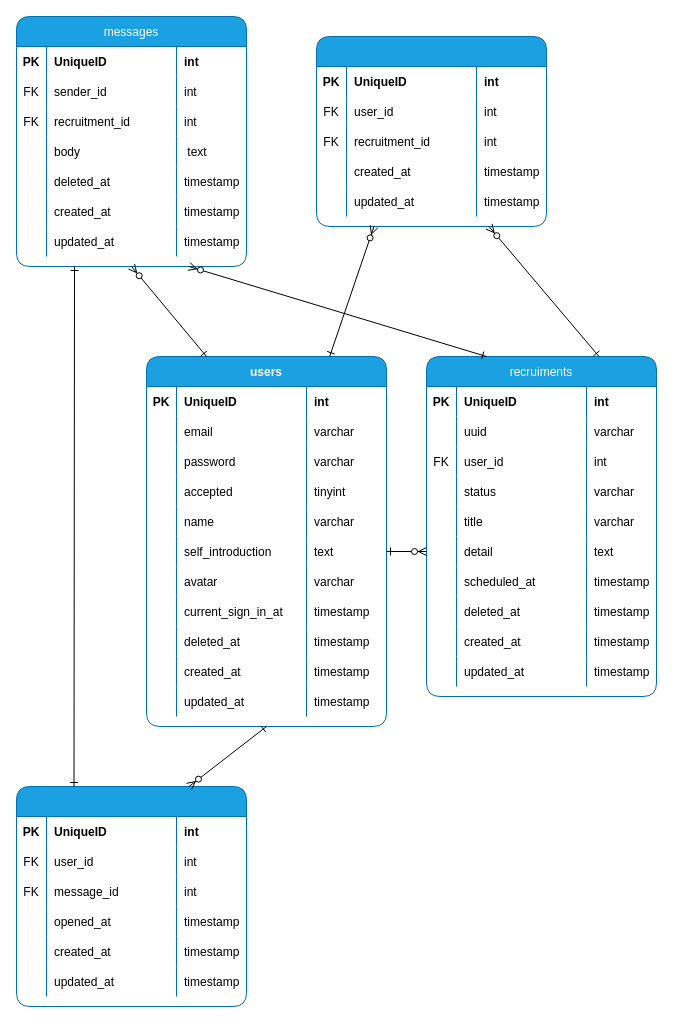
This 673x1023 diagram has some shape labels left out. The box of each missing label's shape, as (x1, y1, x2, y2) in pixels:
favorites: (316, 36, 546, 226)
notifications: (16, 786, 246, 1006)
